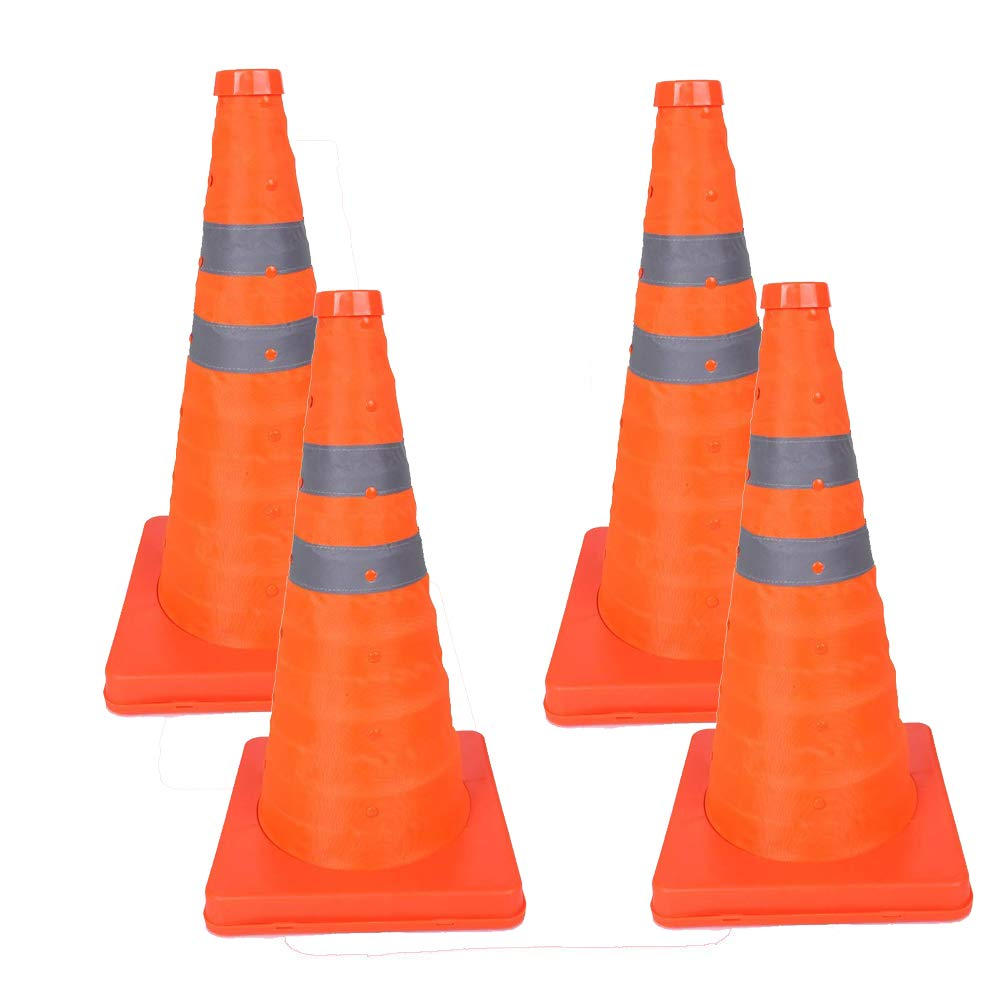cones: (665, 274, 980, 939), (223, 282, 536, 946), (91, 53, 327, 715), (554, 72, 774, 728)
